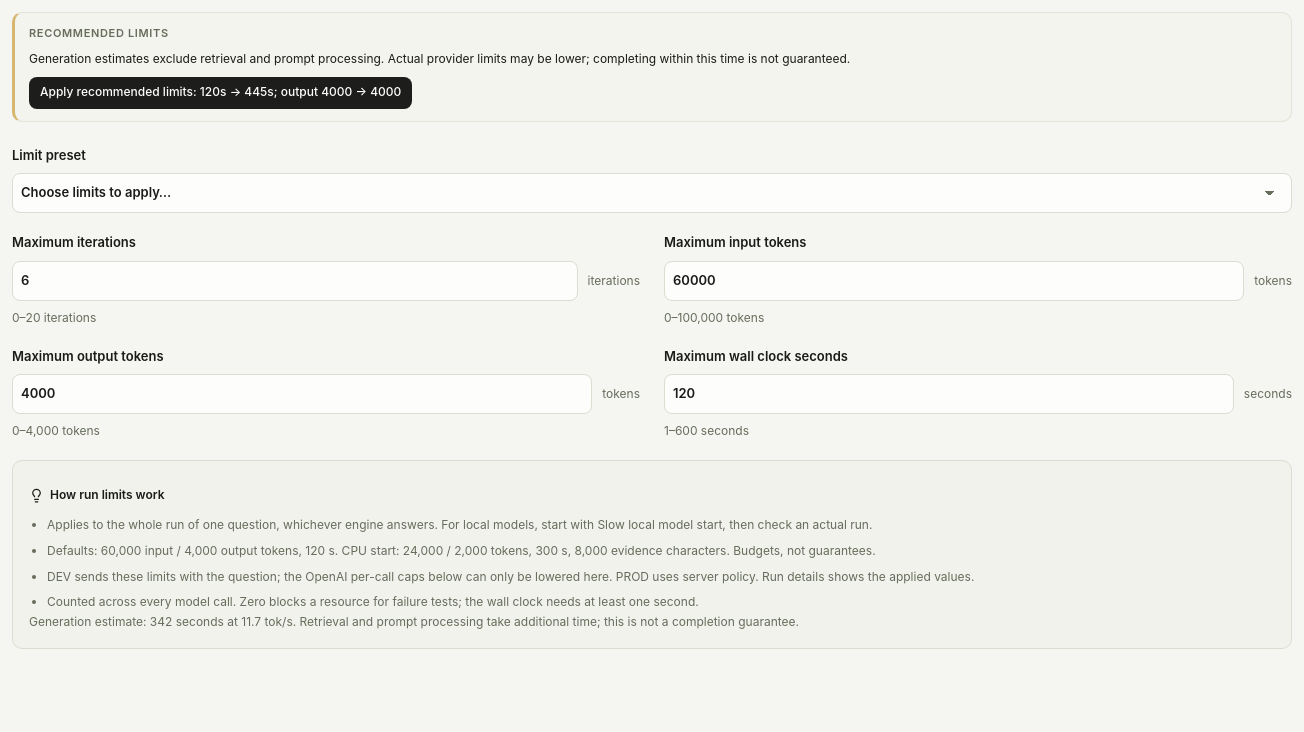
Test case: shows the exact recommendation and changes the value only when applied inside settings
expect the number field labelled "Maximum wall clock seconds" holds "120": met, box [664, 374, 1234, 414]
Click the button "Apply recommended limits: 120s → 445s; output 4000 → 4000": x=221, y=93 [29, 77, 412, 109]
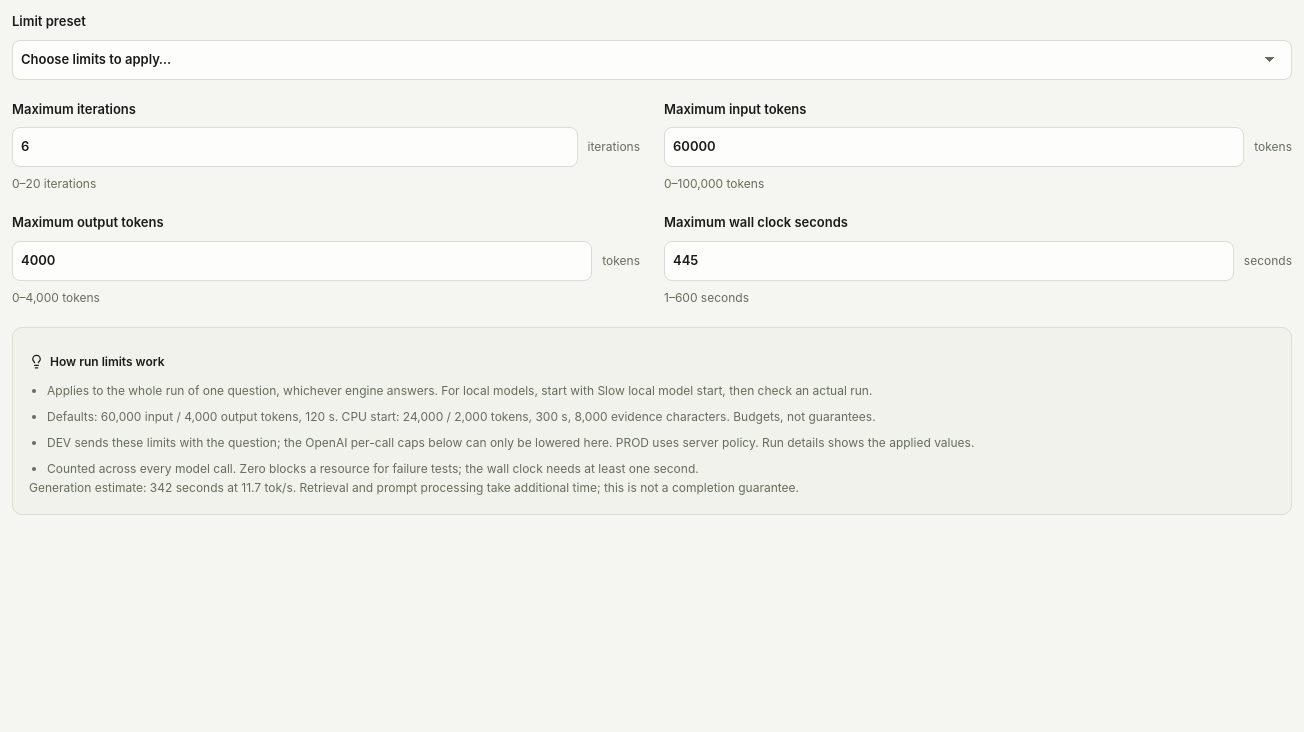
expect the number field labelled "Maximum wall clock seconds" holds "445": met, box [664, 240, 1234, 280]
expect the button "Apply recommended" is gone: met
